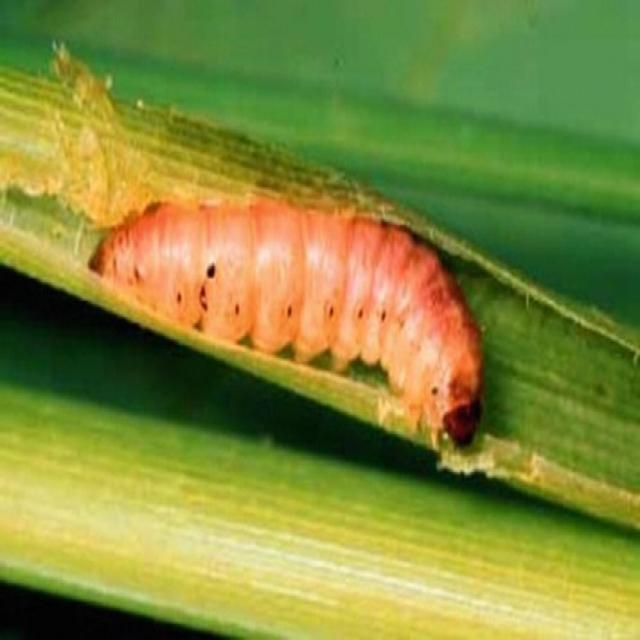cornborer-Larva-: (35, 159, 586, 482)
